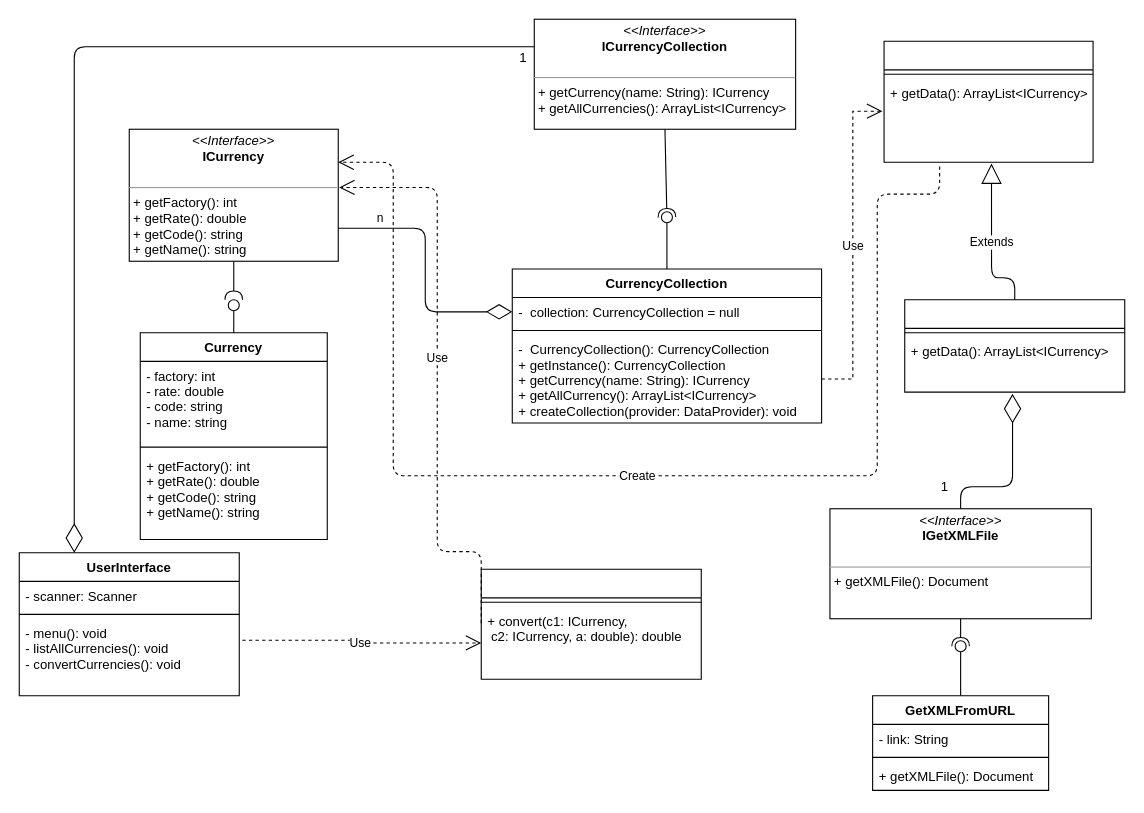
Some shapes in this 1144 by 813 pixel diagram are drawn without their labels. The box of each missing label's shape, as (x1, y1, x2, y2) in pixels:
Converter: (480, 568, 701, 679)
DataProvider: (883, 40, 1093, 162)
GetDataFromXML: (904, 299, 1125, 392)
